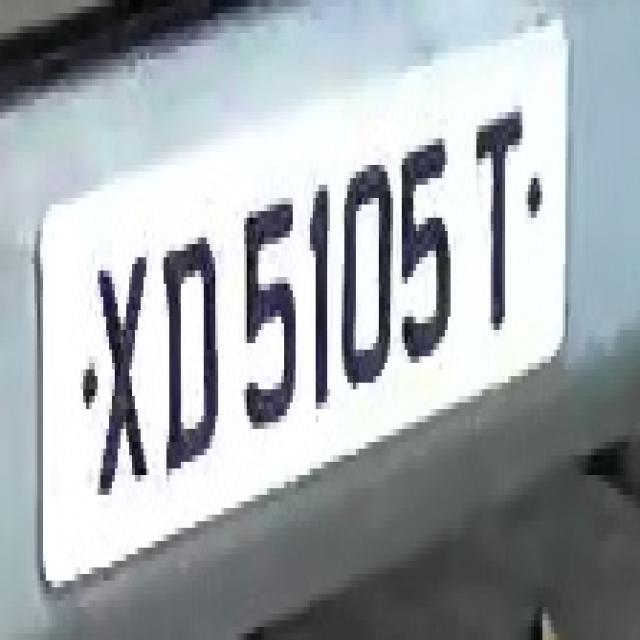0: (342, 132, 393, 402)
1: (302, 172, 342, 436)
5: (238, 171, 299, 462), (399, 112, 453, 376)
D: (158, 224, 227, 488)
T: (468, 99, 528, 343)
X: (83, 211, 158, 515)
